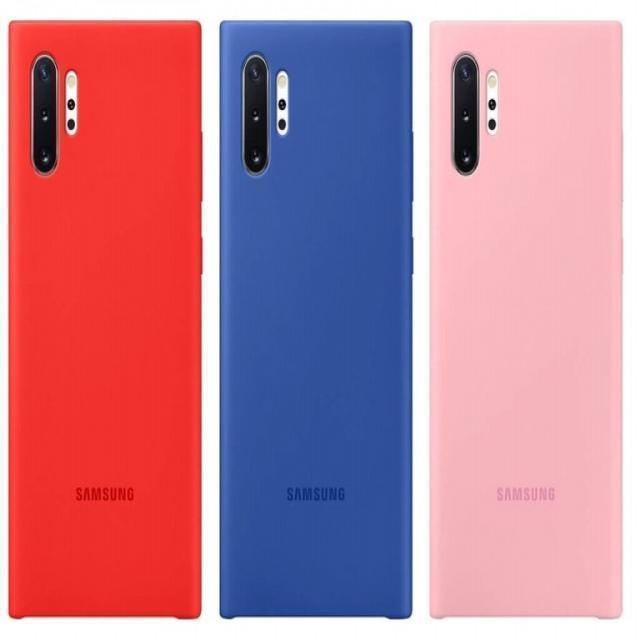lens: (238, 47, 292, 187), (26, 49, 79, 181), (450, 49, 498, 175)
phone: (6, 15, 206, 623), (217, 14, 414, 626), (430, 15, 626, 618)
